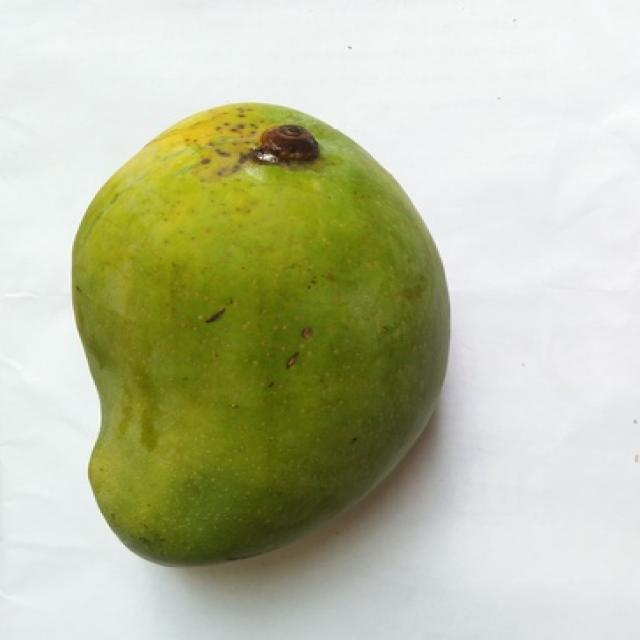Mango: (74, 105, 447, 563)
